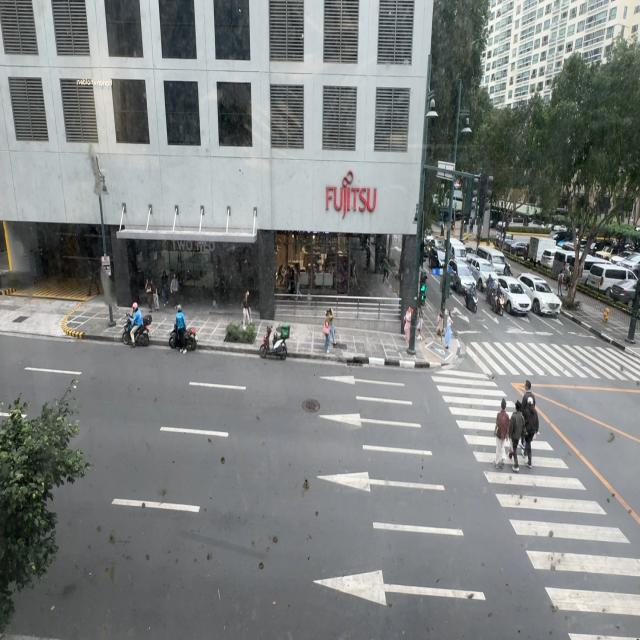crossing: (522, 384, 540, 468), (495, 394, 510, 469), (520, 376, 536, 400)
pedestrain: (321, 304, 338, 359), (403, 305, 414, 351), (446, 308, 456, 356), (242, 290, 253, 329), (434, 308, 444, 345), (416, 305, 424, 343), (558, 270, 564, 298), (566, 265, 572, 290)
